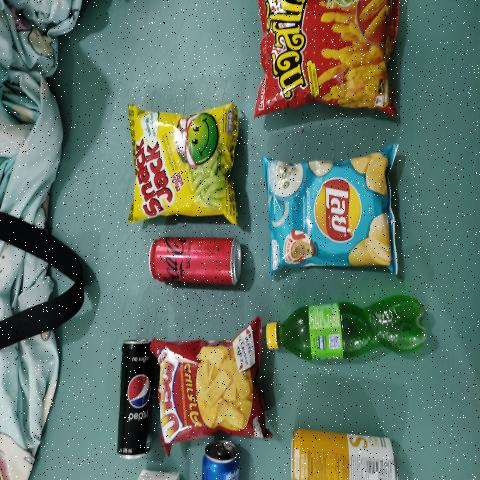coke_red: (155, 243, 236, 279)
fanta_green: (265, 302, 418, 365)
lay_blue: (276, 158, 386, 267)
party_red: (160, 334, 256, 438)
pepsi_black: (120, 344, 148, 456)
singha_yellow: (294, 430, 396, 480)
snack_jack: (138, 110, 229, 216)
twisco: (266, 3, 391, 102)
